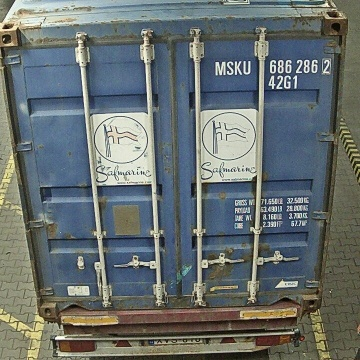serial_id: (215, 58, 331, 75)
